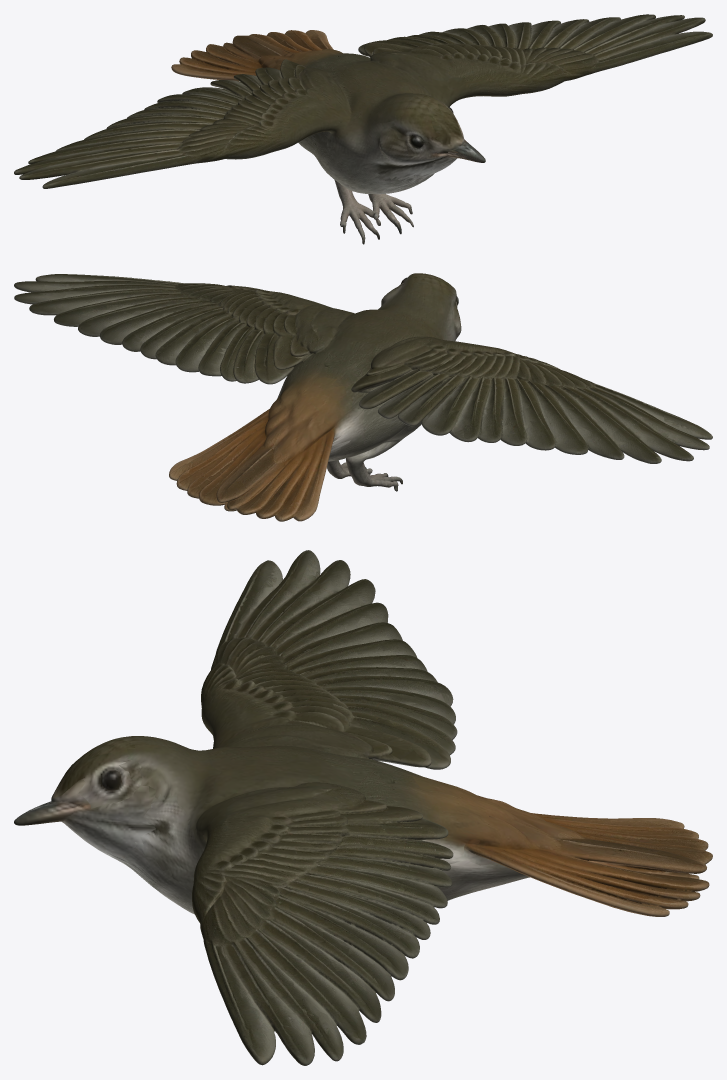
File: Luscinia_luscinia.glb
3 views of the same model, one above another, from view 1: azimuth 30°, elevation 25°; view 2: azimuth 150°, elevation 25°; view 3: azimuth 270°, elevation 25° (orthographic). The views are drawn at different scales.
Visible parts, largest first — view 1: orient; view 2: orient; view 3: orient.
Part boxes in pixels (box(x1,y1,x2,y2)): orient: box(14, 14, 712, 244); orient: box(14, 273, 712, 521); orient: box(14, 550, 712, 1065).
Size of the model in its own units: 0.5 by 0.1187 by 0.2946.
Materials: 1 (1 with a texture image).
